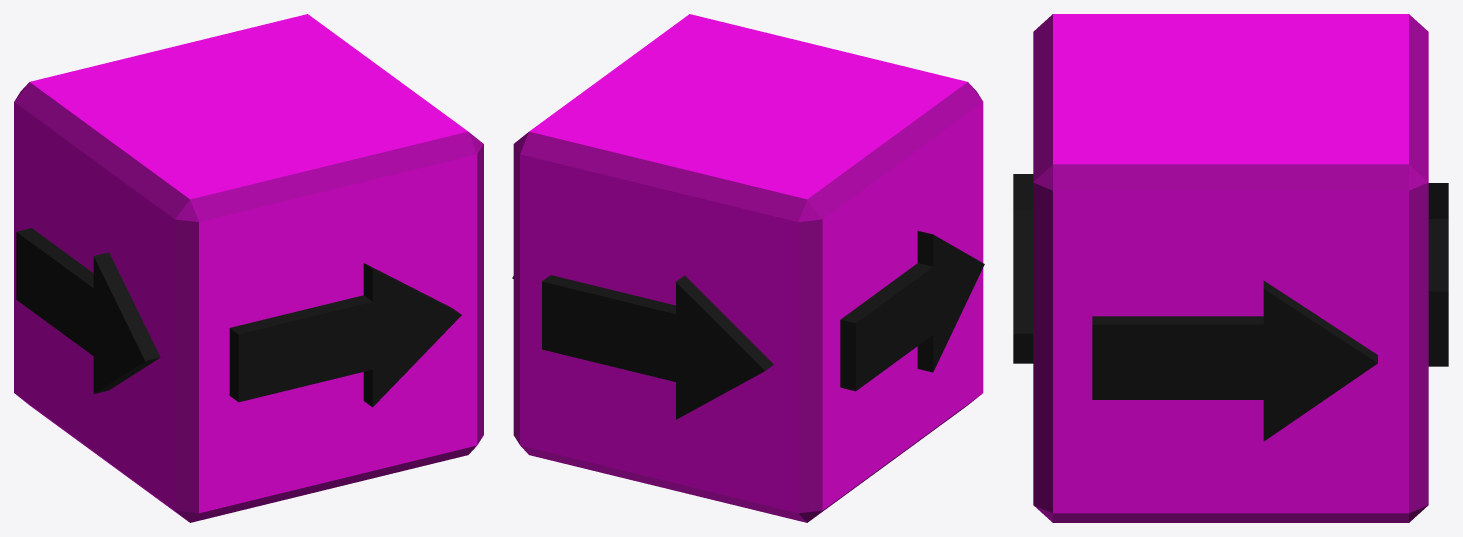
The model's file is 04-right-block.glb.
The picture shows the model from 3 angles, left to right: view 1: azimuth 30°, elevation 25°; view 2: azimuth 150°, elevation 25°; view 3: azimuth 270°, elevation 25°; orthographic projection. The views are drawn at different scales.
Parts seen in each view (by area): view 1: 04-right-block; view 2: 04-right-block; view 3: 04-right-block.
Part boxes in pixels (bbox=[...]): 04-right-block: bbox=[14, 14, 483, 522]; 04-right-block: bbox=[512, 14, 984, 522]; 04-right-block: bbox=[1013, 14, 1448, 522].
Bounding box in the file's own units: 2.2 × 2 × 2.2.
